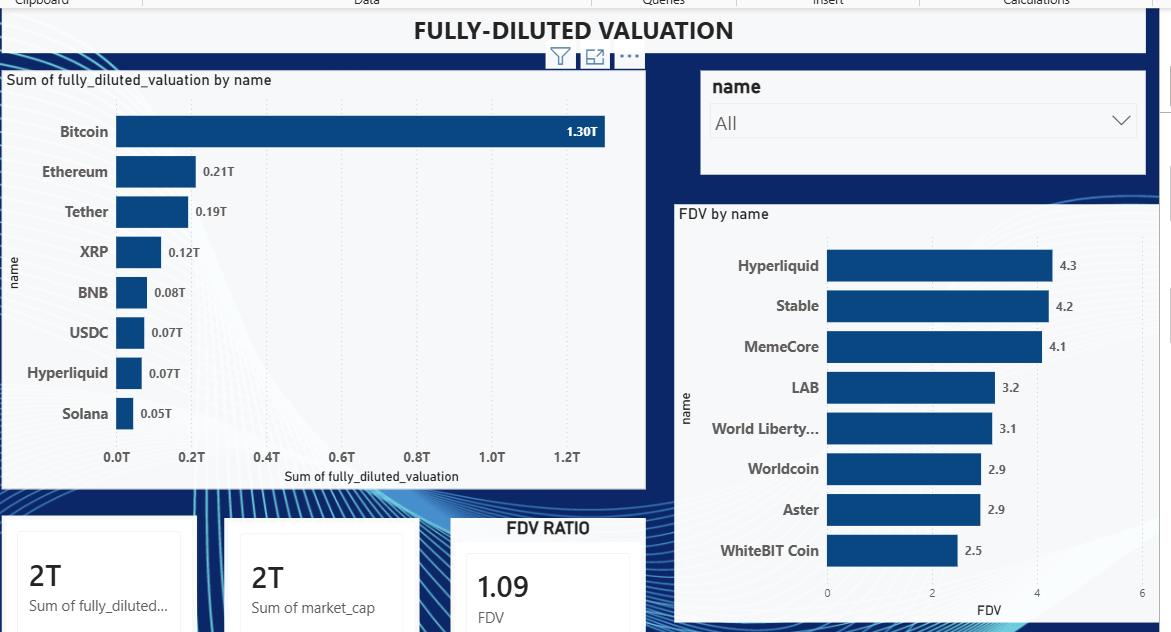

The page's visual inventory and layout, read from the dashboard file:
{"tool":"powerbi","page":{"name":"FDV RISK ANLYSIS","canvas":[1280,720],"ordinal":1},"visuals":[{"type":"textbox","box":[9.4,0,1256,49.8],"z":0},{"type":"cardVisual","title":"FDV RATIO","fields":{"Data":["Query.FDV"]},"box":[502,559.2,214.2,148.8],"z":1000},{"type":"cardVisual","fields":{"Data":["Sum(Query.market_cap)"]},"box":[253.5,559.2,214.2,148.8],"z":2000},{"type":"cardVisual","fields":{"Data":["Sum(Query.fully_diluted_valuation)"]},"box":[9.8,557.6,214.2,150.4],"z":3000},{"type":"clusteredBarChart","fields":{"Category":["Query.name"],"Y":["Sum(Query.fully_diluted_valuation)"]},"box":[9.8,68.7,706.4,459.5],"z":4000},{"type":"clusteredBarChart","fields":{"Category":["Query.name"],"Y":["Query.FDV"]},"box":[747.3,215.8,533.1,459.5],"z":5000},{"type":"slicer","fields":{"Values":["Query.name"]},"box":[776.7,68.7,488.9,114.5],"z":6000}]}

Visuals, with their boxes on the page's 1280x720 design canvas (x1, y1, x2, y2). These are canvas units, not pixel positions in the 1171x632 screenshot, which may show the page scaled, cropped or inside an application window:
textbox: x1=9, y1=0, x2=1265, y2=50
"FDV RATIO" cardVisual: x1=502, y1=559, x2=716, y2=708
cardVisual - Sum(Query.market_cap): x1=254, y1=559, x2=468, y2=708
cardVisual - Sum(Query.fully_diluted_valuation): x1=10, y1=558, x2=224, y2=708
clusteredBarChart - Query.name x Sum(Query.fully_diluted_valuation): x1=10, y1=69, x2=716, y2=528
clusteredBarChart - Query.name x Query.FDV: x1=747, y1=216, x2=1280, y2=675
slicer - Query.name: x1=777, y1=69, x2=1266, y2=183
